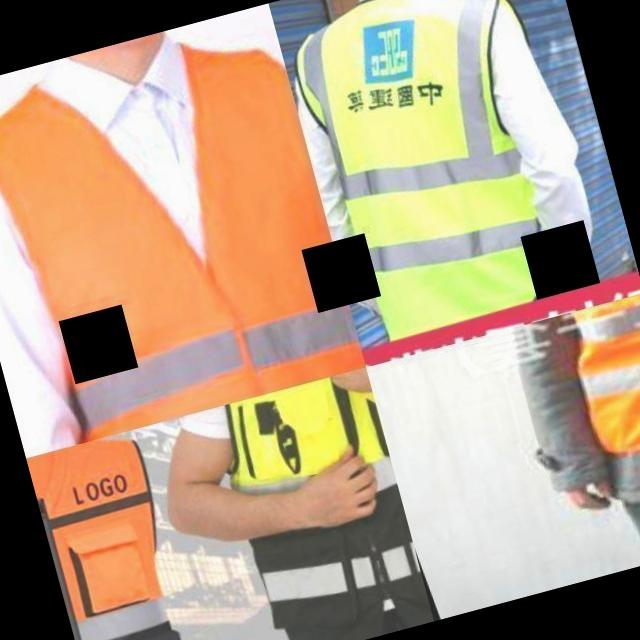vest: (0, 3, 366, 458), (273, 0, 574, 349), (26, 425, 208, 640), (195, 367, 404, 552), (523, 292, 640, 499)
